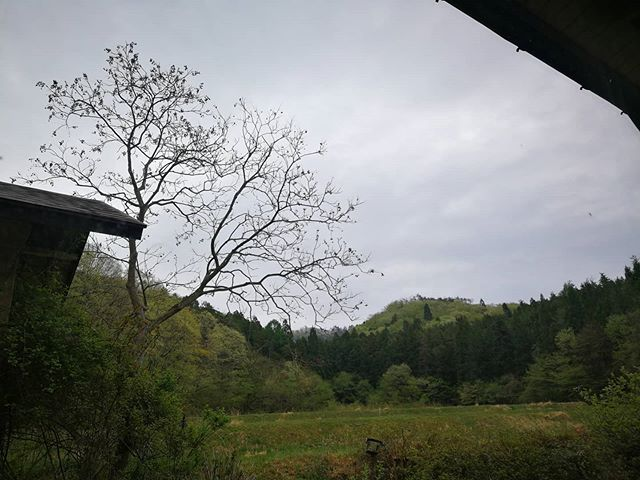building: (1, 195, 120, 331)
sky: (246, 1, 630, 264)
tree: (78, 55, 364, 376)
vegetation: (95, 276, 640, 453)
